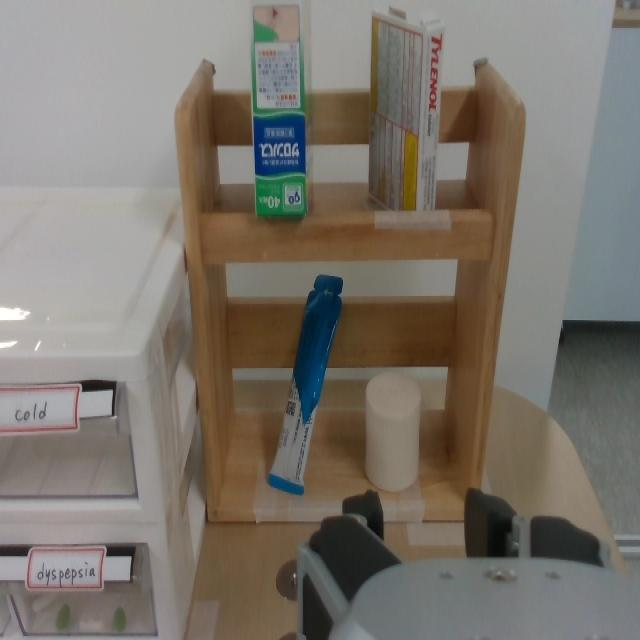bandage: (368, 376, 424, 485)
codaewon_syrup: (272, 271, 342, 494)
sore_patch: (252, 0, 310, 215)
tylenol: (370, 0, 448, 220)
